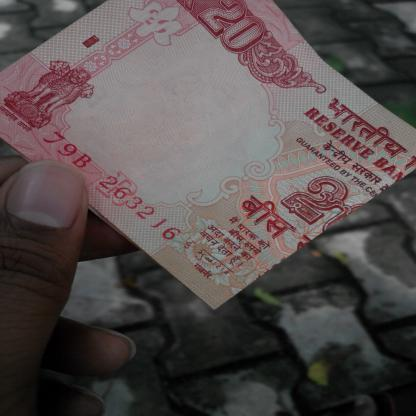Old20Front: (0, 0, 416, 307)
